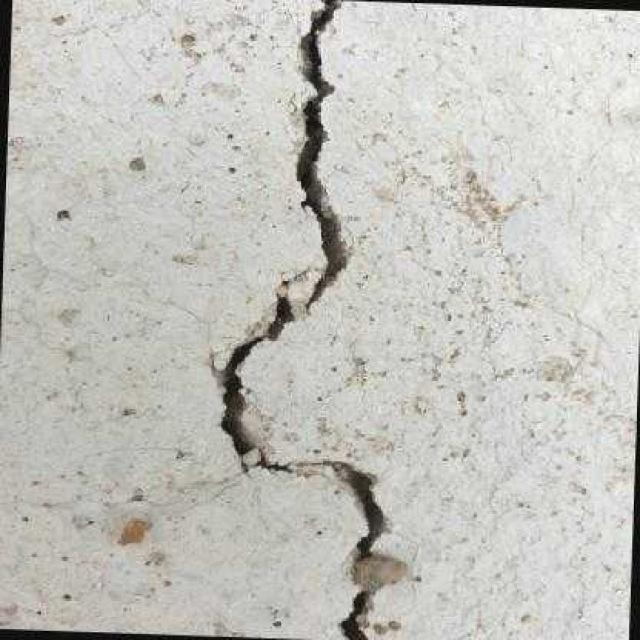D00: (213, 273, 407, 640), (293, 0, 346, 317)
